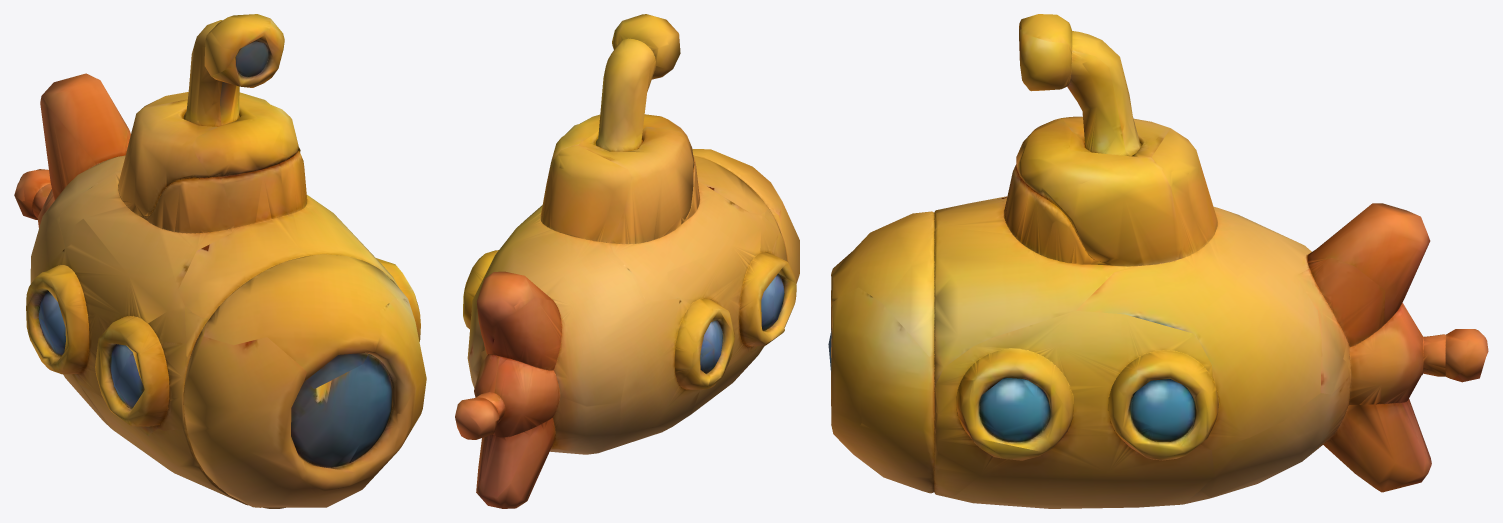
File: submarine_pbr.glb
3 renders of one model, left to right at view 1: azimuth 30°, elevation 25°; view 2: azimuth 150°, elevation 25°; view 3: azimuth 270°, elevation 25°, orthographic. The views are drawn at different scales.
Parts seen in each view (by area): view 1: model.016; view 2: model.016; view 3: model.016.
Boxes of the visible parts, x1,y1,x2,y2 form: model.016: (14, 14, 426, 508); model.016: (455, 14, 799, 508); model.016: (828, 14, 1488, 508).
Bounding box in the file's own units: 0.9436 × 1.49 × 1.86.
1 material, 1 textured.
